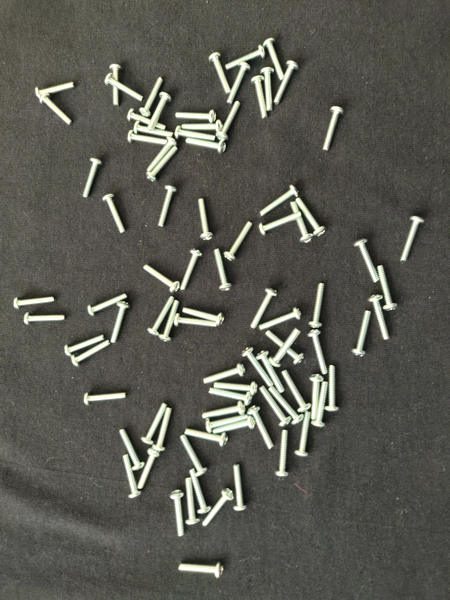longscrew: (264, 329, 306, 366), (257, 385, 291, 428), (257, 184, 301, 217), (178, 434, 210, 479), (281, 369, 313, 414), (268, 386, 304, 426), (240, 346, 273, 389), (201, 488, 235, 529), (255, 349, 285, 394), (246, 404, 274, 451), (273, 60, 301, 107), (294, 196, 326, 237), (39, 92, 75, 128), (117, 426, 145, 472), (269, 328, 301, 368), (375, 263, 400, 314), (103, 73, 145, 103), (399, 216, 425, 264), (249, 287, 278, 330), (353, 238, 380, 284), (147, 295, 175, 339), (70, 340, 112, 369), (224, 221, 253, 263), (147, 145, 179, 183), (141, 402, 168, 447), (321, 105, 346, 153), (146, 136, 177, 174), (368, 293, 392, 342), (289, 199, 315, 244), (227, 61, 253, 106), (258, 307, 304, 332), (225, 43, 266, 71), (258, 211, 302, 237), (216, 100, 242, 144), (142, 263, 180, 293), (101, 193, 128, 235), (188, 467, 211, 515), (307, 328, 330, 376), (178, 248, 203, 292), (87, 292, 129, 318), (138, 75, 164, 117), (63, 334, 106, 359), (120, 453, 143, 499), (136, 448, 160, 492), (183, 427, 231, 449), (208, 51, 232, 95), (202, 362, 247, 385), (180, 305, 227, 327), (80, 157, 104, 200), (352, 309, 373, 358), (263, 38, 286, 82), (147, 92, 172, 132), (212, 248, 234, 293), (168, 488, 188, 537), (177, 560, 226, 580), (109, 301, 131, 345), (152, 407, 173, 453), (208, 386, 253, 407), (205, 413, 250, 434), (211, 415, 256, 436), (127, 108, 168, 131), (159, 299, 180, 343), (184, 476, 202, 527), (232, 463, 250, 513), (201, 401, 246, 421), (294, 411, 312, 460), (309, 281, 327, 330), (158, 184, 178, 228), (196, 197, 215, 242), (250, 75, 269, 120), (311, 380, 328, 429), (173, 312, 219, 330), (83, 390, 128, 408), (108, 62, 126, 107), (173, 125, 218, 143), (275, 429, 291, 479), (325, 364, 341, 414), (184, 137, 228, 155), (308, 373, 324, 422), (11, 294, 57, 311), (34, 81, 77, 99), (212, 380, 260, 396), (260, 66, 276, 112), (126, 129, 169, 146), (133, 121, 173, 139), (181, 119, 223, 135), (23, 312, 67, 327), (174, 109, 218, 124)
